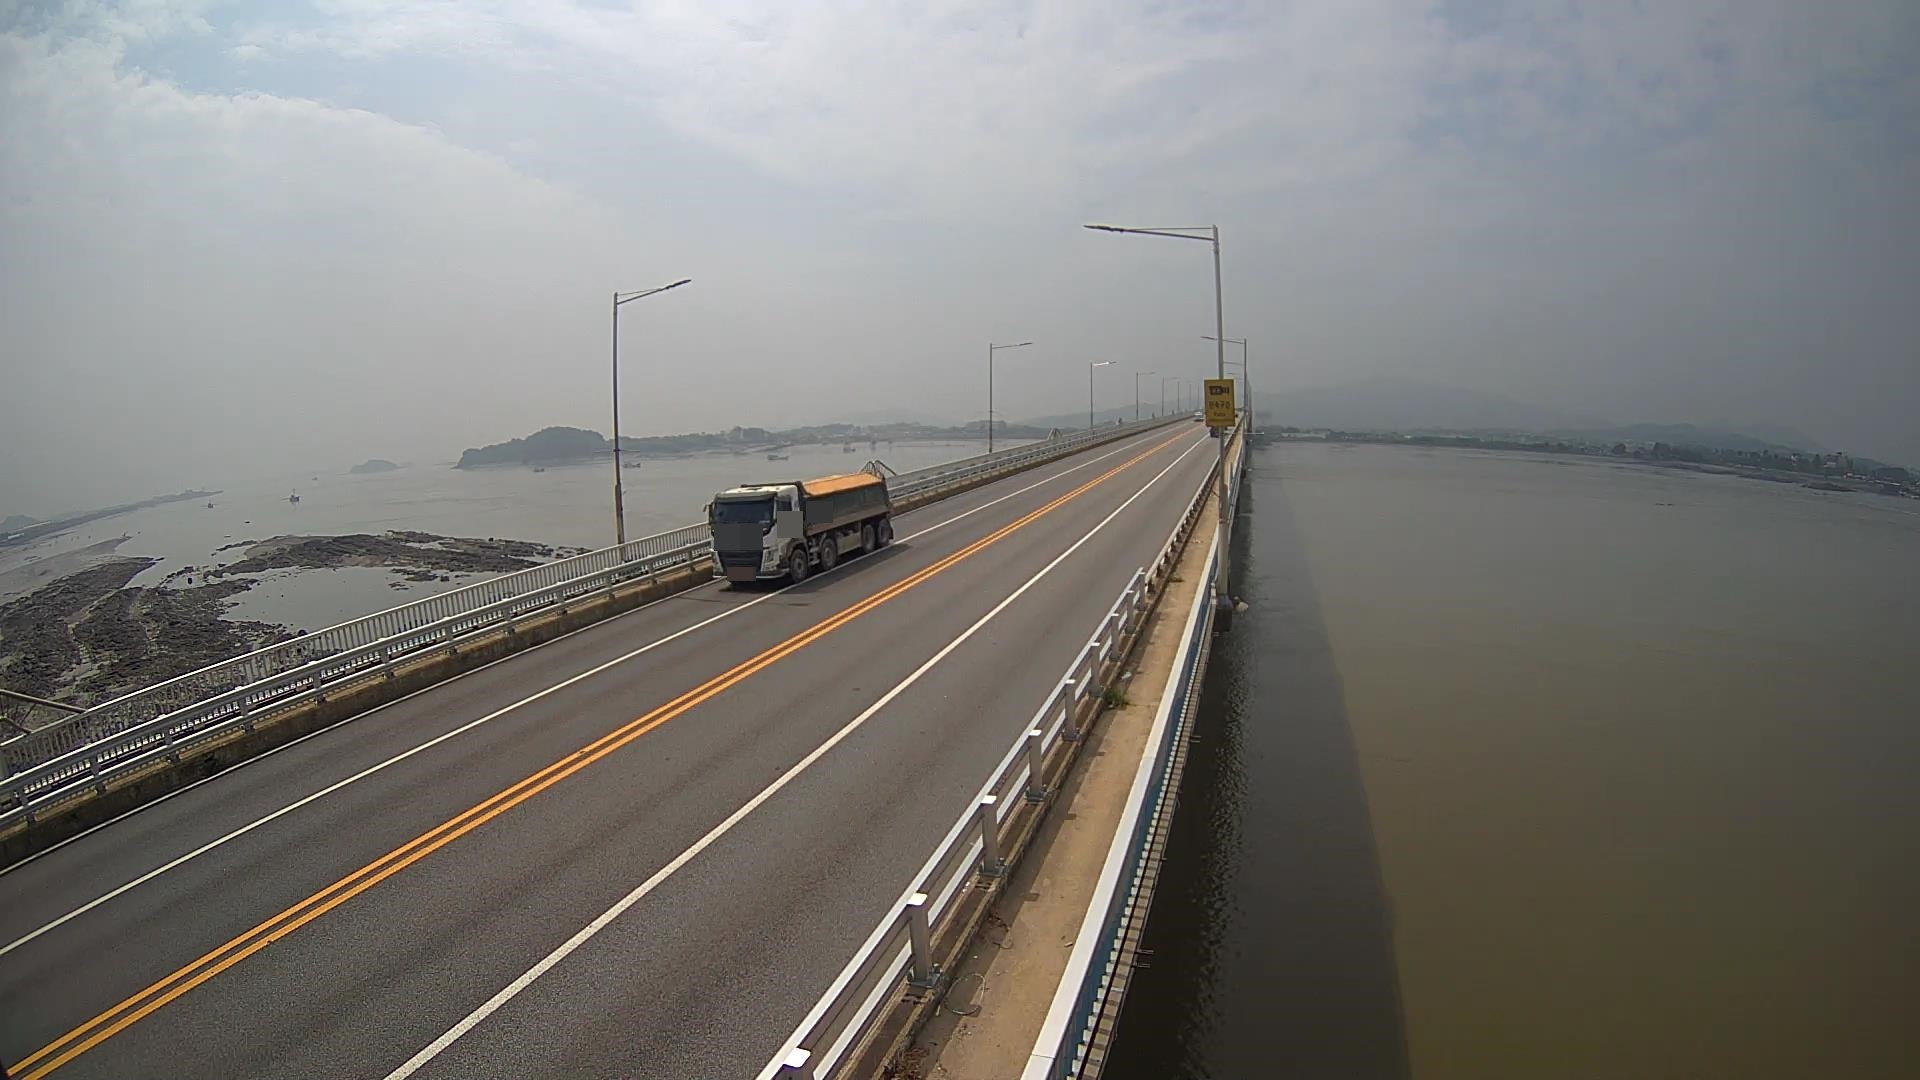정상차량: (701, 473, 894, 583)
